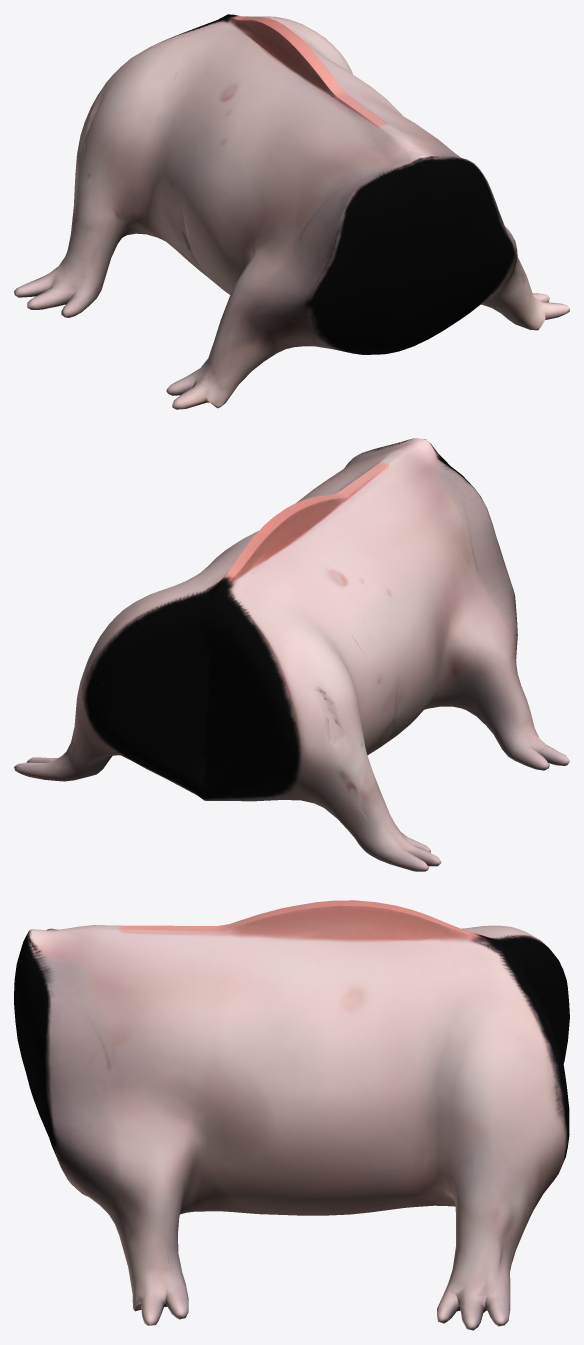
The model's file is cuerpo_ajolote.obj.
The picture shows the model from 3 angles, top to bottom: view 1: azimuth 30°, elevation 25°; view 2: azimuth 150°, elevation 25°; view 3: azimuth 270°, elevation 25°; orthographic projection. The views are drawn at different scales.
Visible parts, largest first — view 1: cuerpo_ajolote; view 2: cuerpo_ajolote; view 3: cuerpo_ajolote.
Part boxes in pixels (bbox=[...]): cuerpo_ajolote: bbox=[14, 14, 569, 409]; cuerpo_ajolote: bbox=[14, 438, 569, 871]; cuerpo_ajolote: bbox=[14, 900, 569, 1330].
Size of the model in its own units: 0.7433 by 0.4639 by 0.737.
Materials: 1 (1 with a texture image).
